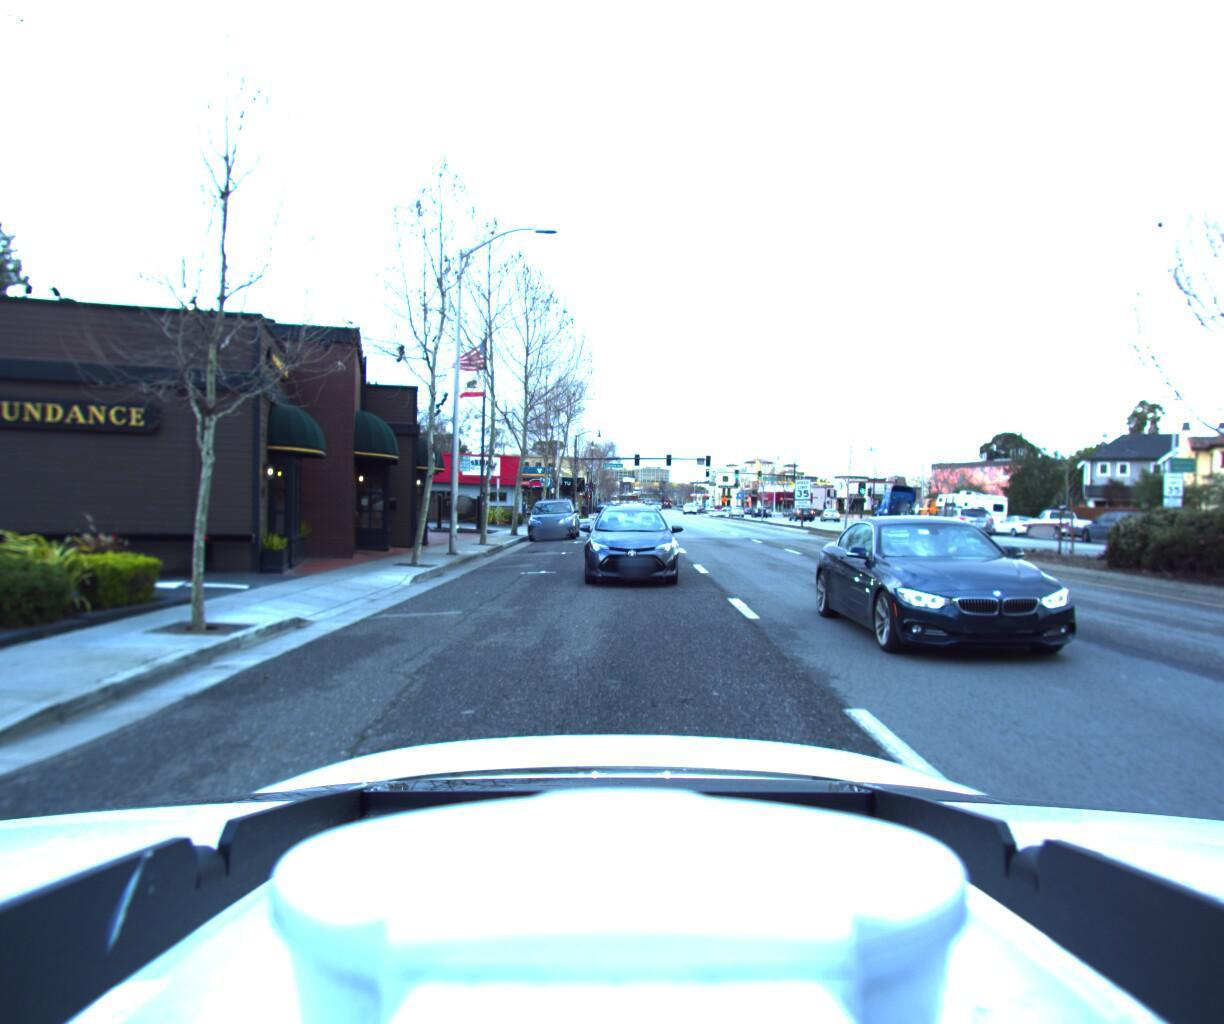car: (831, 510, 1211, 713), (582, 504, 678, 591), (1018, 504, 1102, 544), (910, 502, 986, 539), (521, 496, 579, 543), (930, 503, 994, 533), (901, 497, 952, 531), (982, 514, 1044, 539)
other_vehicle: (928, 487, 1012, 536)
truck: (869, 484, 930, 529)
